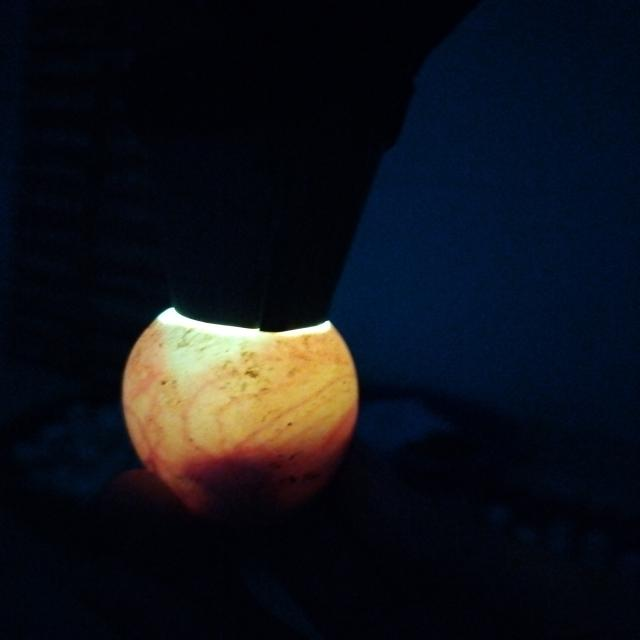Embriao: (191, 445, 344, 527)
